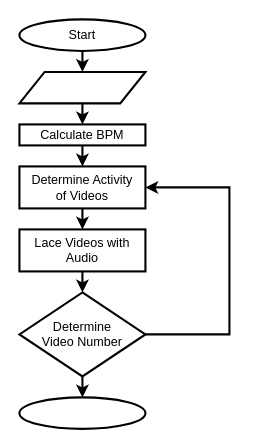
Image size: 256x447. Some labels were removed from this diagram. Each missing label, with the centre of its shape:
"Audio, Video Input" goes at (x=82, y=87).
"Stop" goes at (x=82, y=412).
